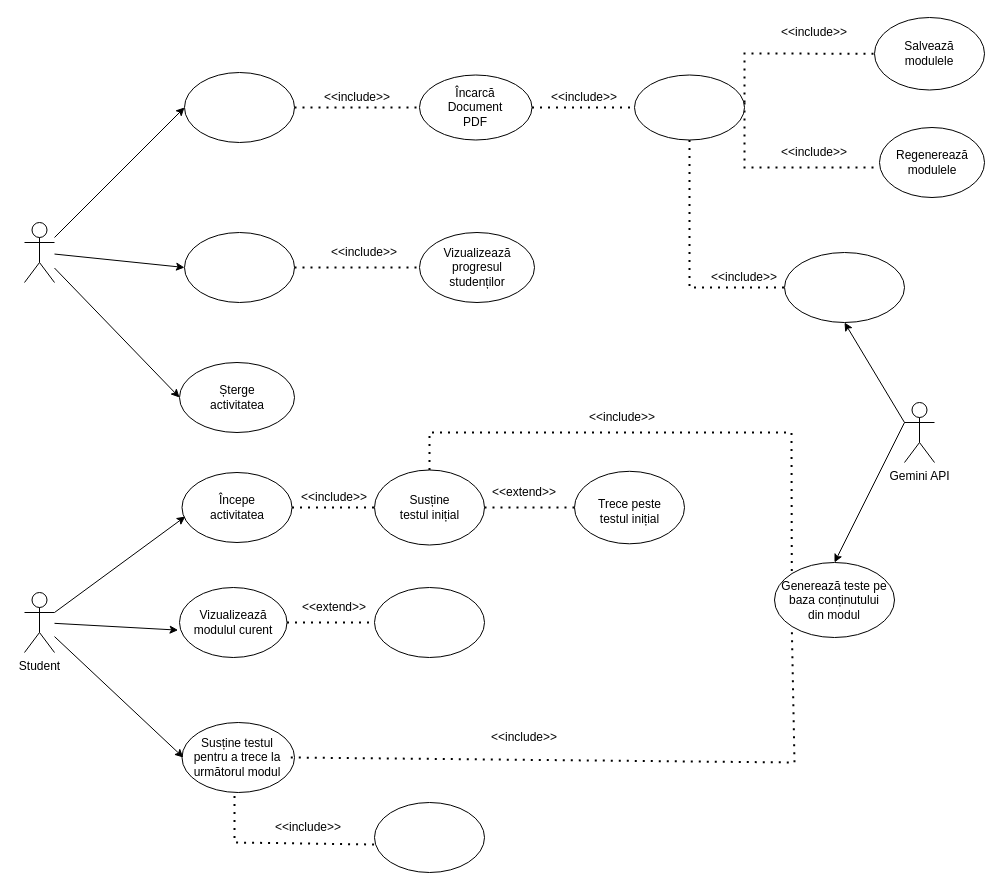
The diagram is 1002 pixels wide and 890 high, and some of its shapes have lost their labels. The shapes that lost their labels are listed below. From the top down, each one's centre as x and y in pixels, then its label:
At [239,107]: "Crează activitatea".
At [689,107]: "Verifică modulele generate".
At [39,252]: "Profesor".
At [239,267]: "Vizualizează modulele".
At [844,287]: "Generează modulele de învățare".
At [429,622]: "Vizualizează toate modulele disponibile".
At [429,837]: "Vizualizează rezultatul obținut în cadrul testului".
